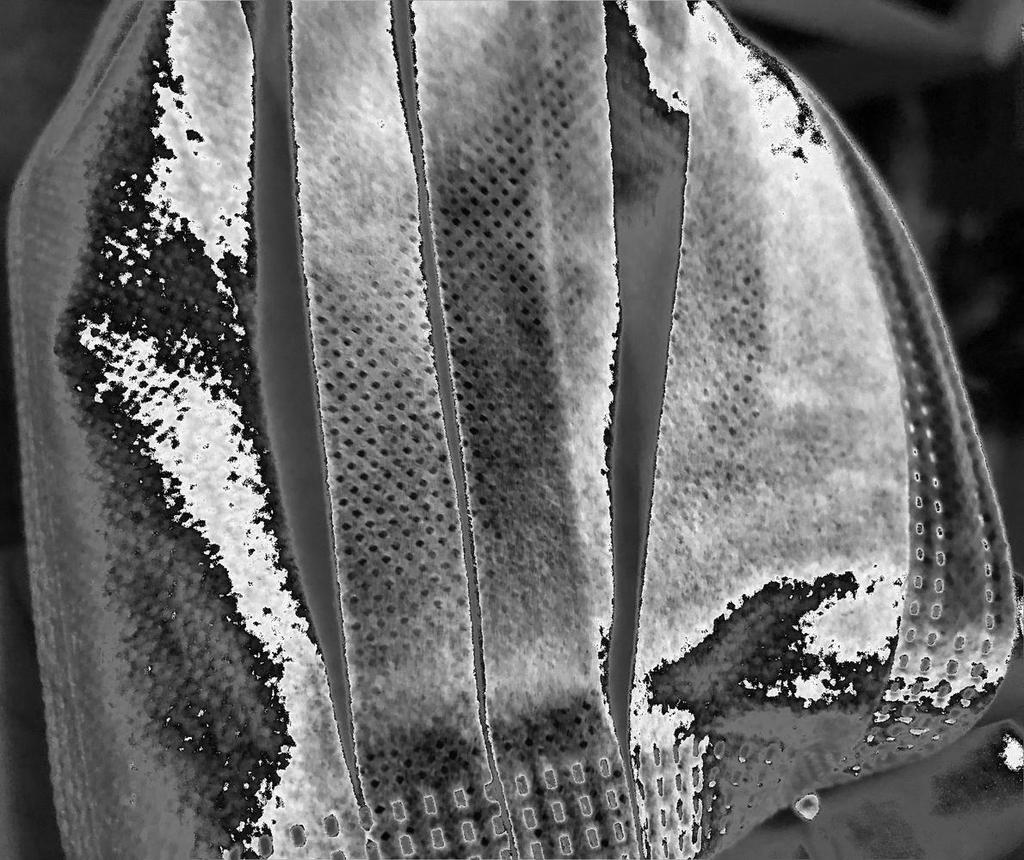Low GSM: (75, 2, 887, 728)
